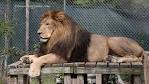lion: (20, 14, 145, 77)
